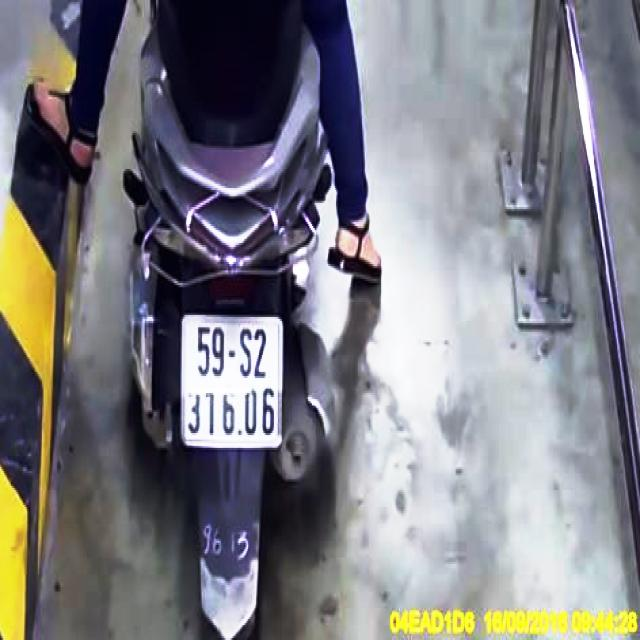license_plate: (181, 314, 283, 447)
